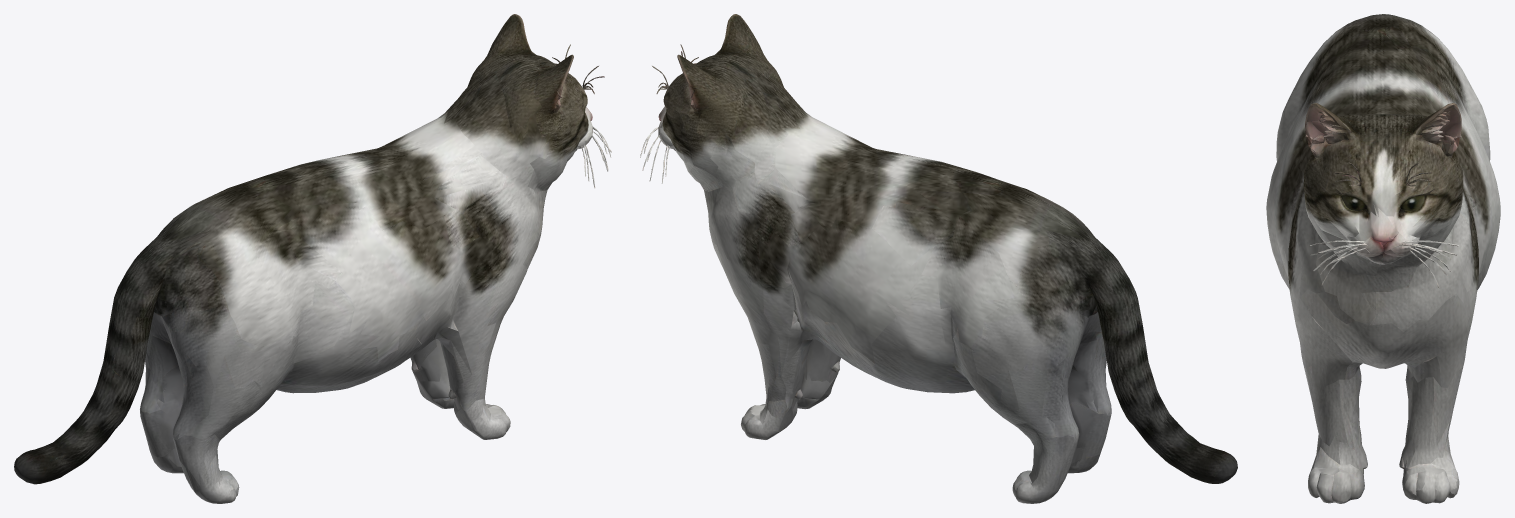
Rendered from TOMBILICAT.glb.
3 views of the same model, side by side, from view 1: azimuth 30°, elevation 25°; view 2: azimuth 150°, elevation 25°; view 3: azimuth 270°, elevation 25° (orthographic). The views are drawn at different scales.
Parts seen in each view (by area): view 1: fit; view 2: fit; view 3: fit.
Part boxes in pixels (bbox=[...]): fit: bbox=[14, 14, 611, 503]; fit: bbox=[640, 14, 1237, 503]; fit: bbox=[1266, 14, 1500, 503].
Bounding box in the file's own units: 1.65 × 1 × 0.486.
Materials: 1 (1 with a texture image).
